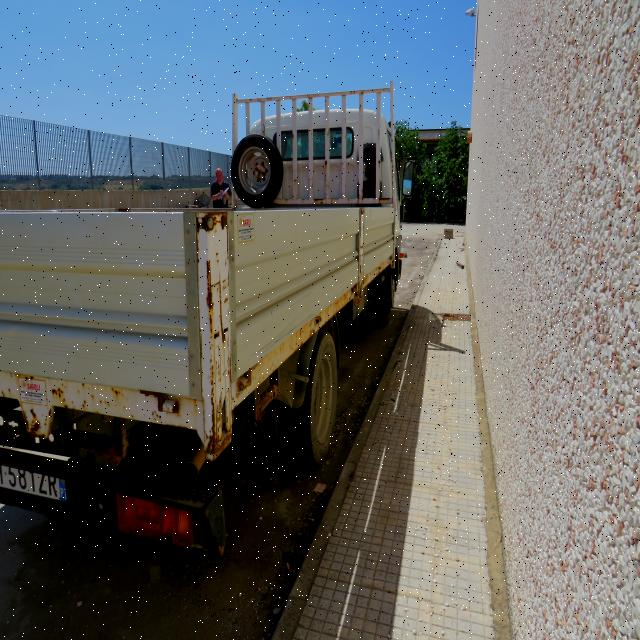truck: (0, 80, 402, 556)
